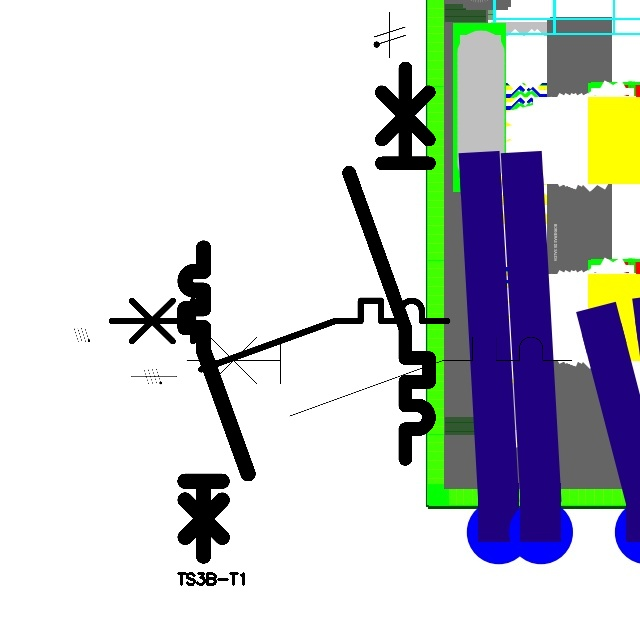interruptor_termomagnetico: (339, 58, 439, 468), (176, 327, 582, 426), (102, 292, 455, 378), (177, 240, 256, 564)
